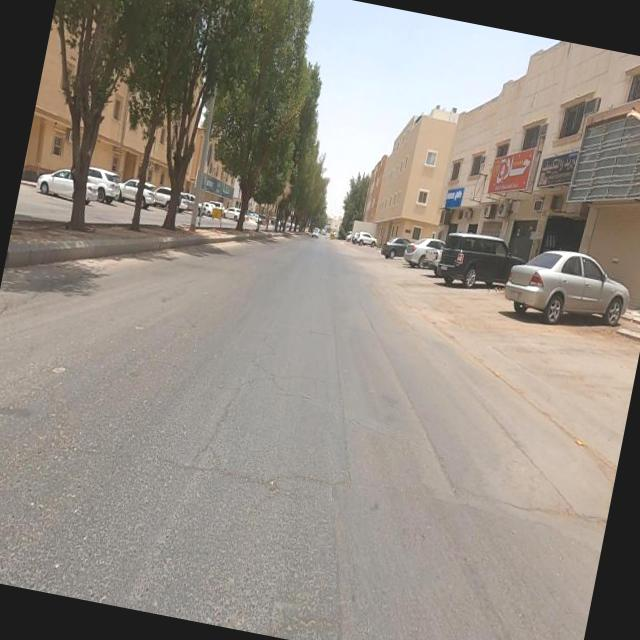debris: (501, 38, 640, 267)
